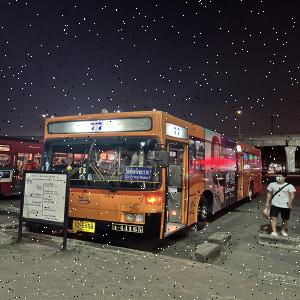BMTA-bus: (42, 110, 263, 240)
Bus Line Number: (80, 120, 112, 134)
Bus Side Number: (110, 222, 144, 233)
Destination Sign: (124, 167, 153, 181)
